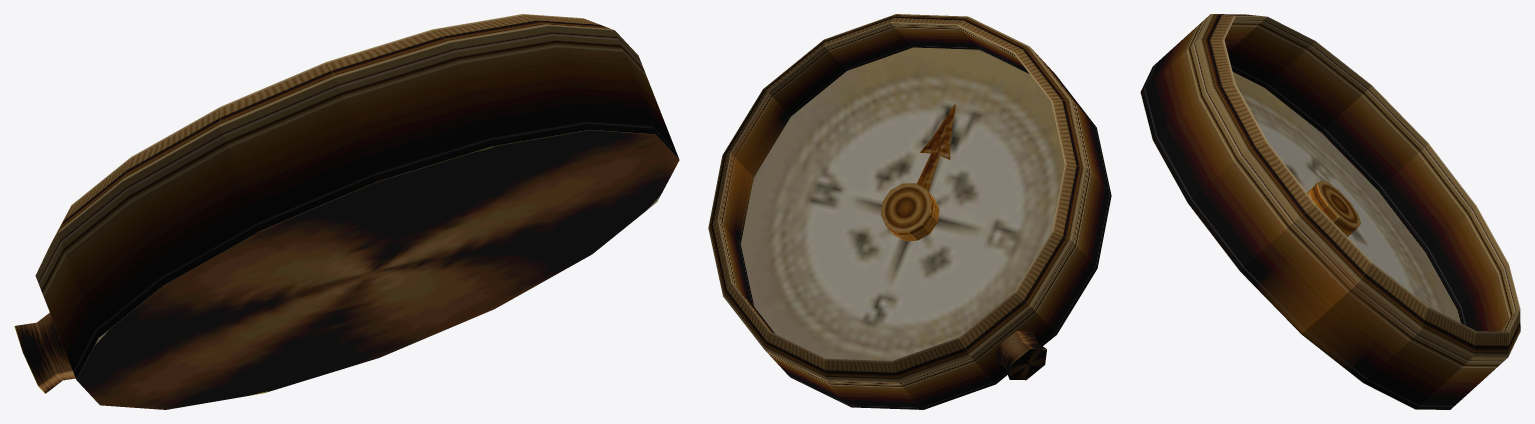
File: mc.ico.obj
3 views of the same model, side by side, from view 1: azimuth 30°, elevation 25°; view 2: azimuth 150°, elevation 25°; view 3: azimuth 270°, elevation 25° (orthographic). The views are drawn at different scales.
Bounding box in the file's own units: 3.56 × 2.97 × 2.97.
1 material, 1 textured.
